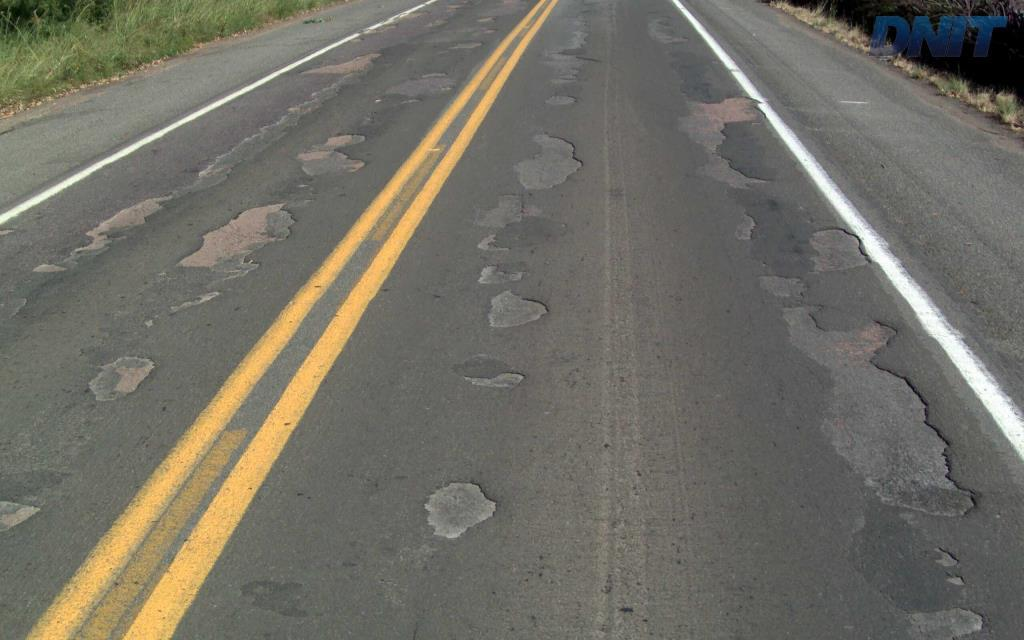pothole: (749, 269, 999, 519), (670, 96, 772, 198), (417, 466, 507, 547), (504, 126, 589, 193), (797, 220, 873, 277), (884, 602, 990, 638), (473, 287, 560, 329), (456, 364, 530, 399), (467, 262, 529, 285), (922, 543, 967, 569), (541, 89, 581, 114), (729, 212, 755, 244), (469, 232, 510, 252), (939, 572, 966, 587)
